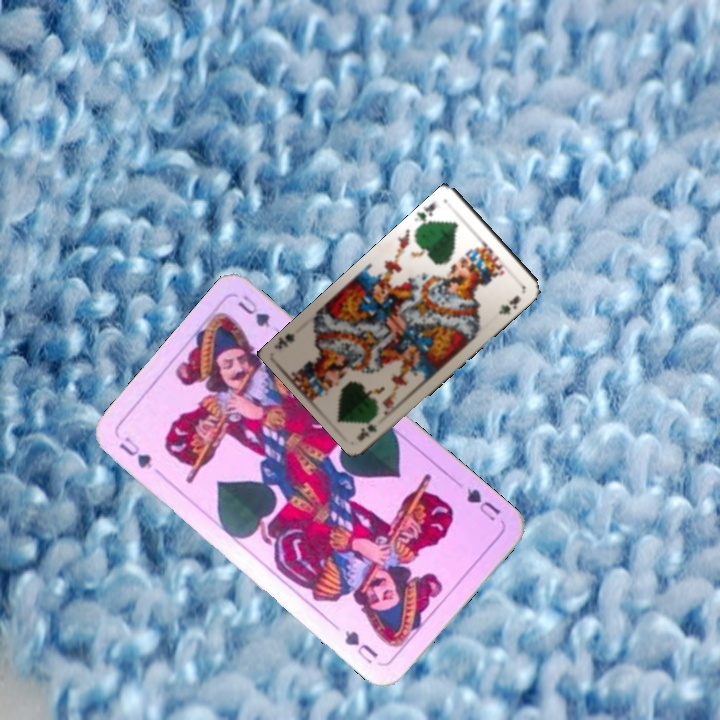GK: (410, 198, 439, 229), (353, 420, 380, 443)
GU: (462, 483, 503, 524), (115, 432, 155, 473)
